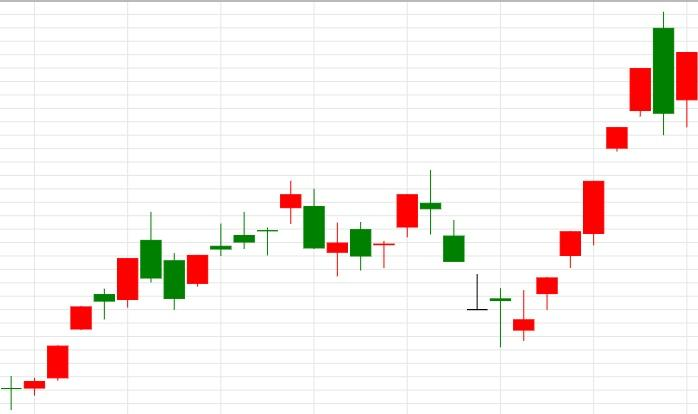bearish_engulfing_fall: (512, 11, 675, 341)
